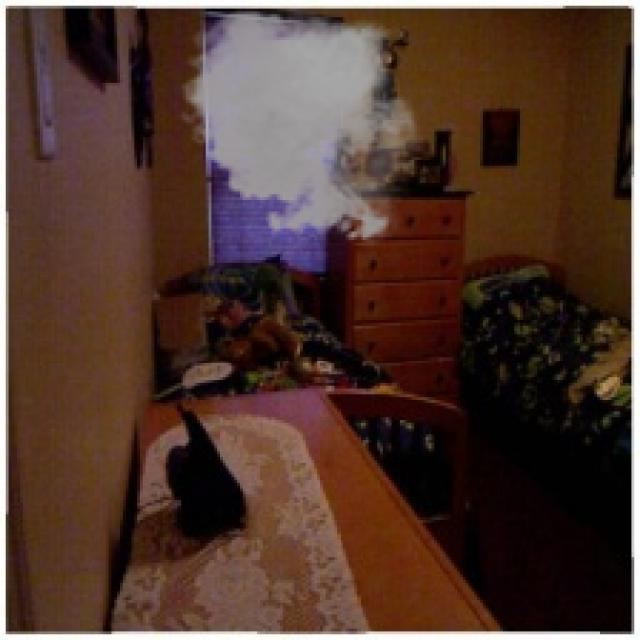smoke: (175, 0, 432, 249)
